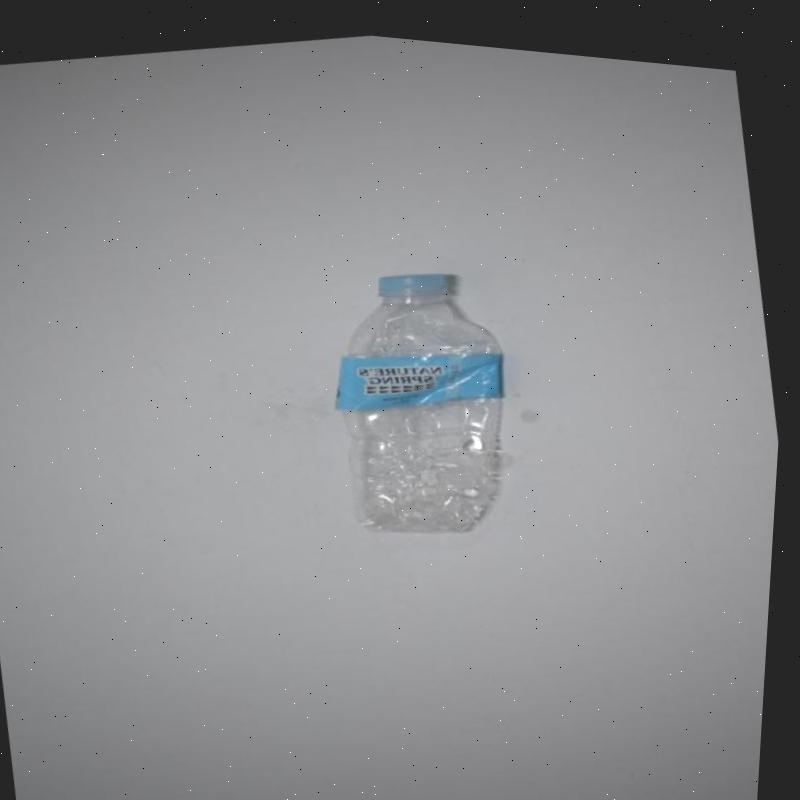botella: (309, 243, 545, 548)
